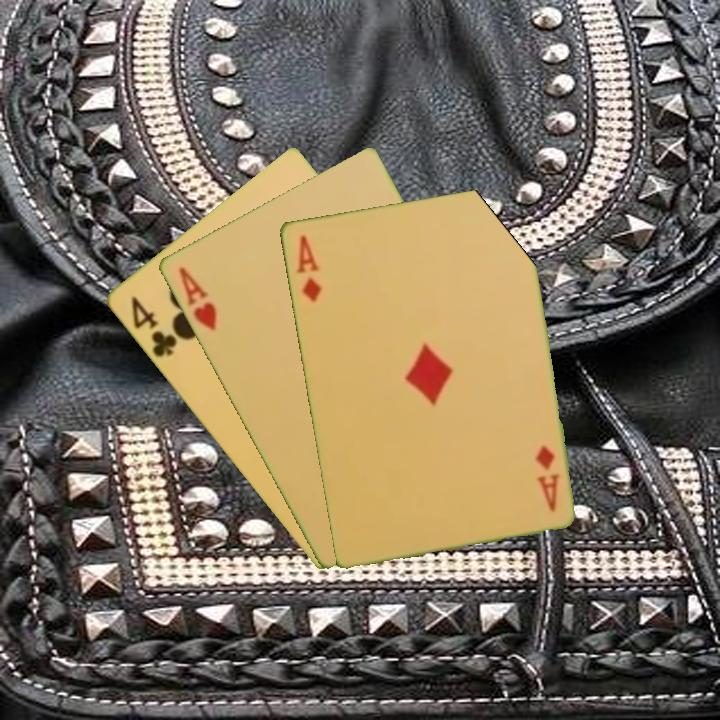4c: (126, 292, 180, 361)
Ad: (291, 231, 324, 304), (531, 441, 562, 515)
Ah: (174, 263, 220, 334)
